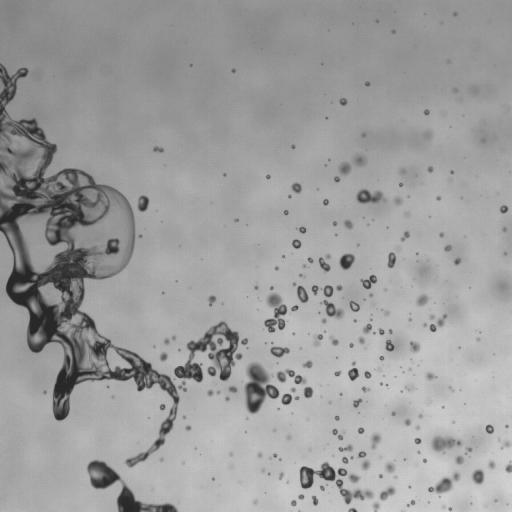droplet: (280, 387, 300, 406), (270, 341, 289, 357), (317, 253, 331, 273), (339, 253, 355, 270), (360, 274, 377, 289), (347, 361, 359, 381), (351, 153, 367, 167), (471, 468, 484, 485), (137, 195, 149, 212), (369, 432, 381, 449), (415, 293, 430, 306), (338, 161, 351, 175), (332, 428, 346, 440), (312, 333, 323, 347), (387, 252, 396, 268), (290, 182, 302, 193), (409, 341, 420, 353), (384, 461, 395, 473), (4, 101, 15, 112), (9, 110, 20, 121), (382, 189, 393, 200), (329, 257, 340, 268), (259, 287, 270, 298), (282, 295, 293, 306), (420, 303, 431, 314), (17, 306, 28, 317), (342, 308, 353, 319), (19, 311, 30, 322), (191, 330, 202, 341), (346, 349, 357, 360), (193, 350, 204, 361), (278, 355, 289, 366), (199, 358, 210, 369), (52, 359, 63, 370), (277, 359, 288, 370), (151, 360, 162, 371), (229, 364, 240, 375), (400, 373, 411, 384), (45, 376, 56, 387), (367, 376, 378, 387), (125, 377, 136, 388), (389, 379, 400, 390), (277, 382, 288, 393), (235, 389, 246, 400), (43, 392, 54, 403), (359, 433, 370, 444), (359, 439, 370, 450), (420, 439, 431, 450), (450, 445, 461, 456), (260, 456, 271, 467), (330, 458, 341, 469), (495, 458, 506, 469), (109, 460, 120, 471), (270, 461, 281, 472), (345, 462, 356, 473), (461, 470, 472, 481), (342, 479, 353, 490), (355, 479, 366, 490), (110, 481, 121, 492), (308, 484, 319, 495), (361, 497, 372, 508), (425, 371, 437, 381), (400, 230, 410, 241), (291, 238, 301, 249), (329, 334, 339, 345), (385, 339, 394, 351), (404, 383, 416, 392), (469, 85, 479, 95), (343, 219, 353, 229), (349, 301, 359, 311), (158, 351, 168, 361), (484, 424, 494, 434), (454, 455, 464, 465), (207, 295, 216, 306), (423, 130, 433, 139), (302, 360, 313, 368), (393, 196, 402, 205), (353, 398, 362, 407), (6, 66, 15, 75), (45, 134, 54, 143), (344, 154, 353, 163), (349, 163, 358, 172), (42, 169, 51, 178), (396, 187, 405, 196), (129, 199, 138, 208), (400, 200, 409, 209), (447, 250, 456, 259), (2, 268, 11, 277), (411, 289, 420, 298), (3, 296, 12, 305), (265, 309, 274, 318), (363, 331, 372, 340), (321, 336, 330, 345), (338, 337, 347, 346), (157, 343, 166, 352), (235, 343, 244, 352), (339, 371, 348, 380), (242, 374, 251, 383), (185, 376, 194, 385), (225, 376, 234, 385), (268, 376, 277, 385), (285, 376, 294, 385), (108, 377, 117, 386), (295, 383, 304, 392), (164, 397, 173, 406), (159, 410, 168, 419), (395, 413, 404, 422), (363, 428, 372, 437), (439, 430, 448, 439), (128, 448, 137, 457), (393, 460, 402, 469), (311, 462, 320, 471), (454, 463, 463, 472), (482, 468, 491, 477), (312, 474, 321, 483), (429, 477, 438, 486), (303, 487, 312, 496), (156, 496, 165, 505), (350, 497, 359, 506), (296, 225, 306, 233), (380, 308, 390, 316), (228, 385, 238, 393), (487, 459, 495, 469), (311, 494, 318, 505), (499, 205, 508, 213), (424, 397, 432, 406), (464, 446, 472, 455), (406, 499, 415, 507), (153, 146, 164, 152), (505, 429, 511, 440), (505, 447, 511, 458), (108, 505, 119, 511), (308, 505, 319, 511), (431, 505, 442, 511), (339, 97, 347, 105), (453, 257, 461, 265), (363, 370, 371, 378), (361, 386, 370, 393), (291, 304, 299, 311), (374, 365, 382, 372), (404, 418, 411, 426), (357, 426, 364, 434), (290, 499, 297, 507), (0, 175, 5, 186), (0, 281, 5, 292), (278, 471, 284, 480), (399, 168, 406, 175), (444, 244, 451, 251), (335, 284, 342, 291), (377, 328, 384, 335), (414, 437, 421, 444), (341, 456, 348, 463), (16, 77, 23, 84), (357, 148, 364, 155), (51, 152, 58, 159), (338, 173, 345, 180), (93, 177, 100, 184), (6, 188, 13, 195), (350, 191, 357, 198), (350, 195, 357, 202), (401, 197, 408, 204), (376, 199, 383, 206), (365, 200, 372, 207), (146, 202, 153, 209), (131, 204, 138, 211), (337, 220, 344, 227), (295, 232, 302, 239), (441, 238, 448, 245), (342, 247, 349, 254), (312, 260, 319, 267), (349, 262, 356, 269), (82, 276, 89, 283), (317, 281, 324, 288), (264, 288, 271, 295), (305, 288, 312, 295), (316, 289, 323, 296), (424, 289, 431, 296), (3, 294, 10, 301), (326, 296, 333, 303), (293, 297, 300, 304), (424, 300, 431, 307), (333, 302, 340, 309), (77, 304, 84, 311), (88, 311, 95, 318), (435, 311, 442, 318), (327, 315, 334, 322), (93, 319, 100, 326), (229, 324, 236, 331), (382, 332, 389, 339), (307, 335, 314, 342), (411, 335, 418, 342), (351, 337, 358, 344), (353, 341, 360, 348), (44, 342, 51, 349), (418, 345, 425, 352), (154, 349, 161, 356), (382, 349, 389, 356), (411, 351, 418, 358), (178, 359, 185, 366), (53, 366, 60, 373), (200, 367, 207, 374), (357, 368, 364, 375), (168, 372, 175, 379), (152, 382, 159, 389), (72, 383, 79, 390), (175, 388, 182, 395), (228, 391, 235, 398), (263, 394, 270, 401), (175, 410, 182, 417), (247, 411, 254, 418), (410, 417, 417, 424), (183, 418, 190, 425), (332, 421, 339, 428), (154, 422, 161, 429), (375, 427, 382, 434), (152, 432, 159, 439), (452, 432, 459, 439), (163, 433, 170, 440), (379, 434, 386, 441), (339, 440, 346, 447), (461, 440, 468, 447), (375, 441, 382, 448), (140, 445, 147, 452), (364, 447, 371, 454), (351, 448, 358, 455), (343, 450, 350, 457), (434, 450, 441, 457), (96, 454, 103, 461), (385, 455, 392, 462), (501, 459, 508, 466), (136, 460, 143, 467), (472, 463, 479, 470), (393, 467, 400, 474), (382, 470, 389, 477), (445, 471, 452, 478), (341, 475, 348, 482), (84, 479, 91, 486), (328, 479, 335, 486), (450, 479, 457, 486), (468, 479, 475, 486), (87, 484, 94, 491), (380, 484, 387, 491), (96, 487, 103, 494), (430, 490, 437, 497), (440, 490, 447, 497), (133, 494, 140, 501), (372, 494, 379, 501), (386, 494, 393, 501), (337, 495, 344, 502), (168, 498, 175, 505), (378, 499, 385, 506), (393, 245, 401, 251), (298, 273, 306, 279), (288, 506, 297, 511), (406, 506, 415, 511), (323, 198, 329, 205), (334, 370, 341, 376), (159, 403, 165, 410), (427, 166, 433, 172), (334, 176, 340, 182), (501, 226, 507, 232), (307, 257, 313, 263), (185, 425, 191, 431), (285, 434, 291, 440), (252, 499, 258, 505), (229, 463, 234, 470), (298, 494, 305, 499), (452, 88, 458, 93), (424, 109, 429, 115), (404, 212, 410, 217), (321, 318, 326, 324), (475, 337, 481, 342), (379, 355, 384, 361), (224, 396, 230, 401), (417, 413, 423, 418), (334, 415, 340, 420), (415, 424, 420, 430), (257, 451, 262, 457), (422, 457, 427, 463), (260, 467, 265, 473), (441, 504, 447, 509), (211, 381, 218, 385), (507, 206, 511, 213), (507, 225, 511, 232), (507, 249, 511, 256), (367, 507, 374, 511), (365, 81, 370, 86), (361, 132, 366, 137), (398, 182, 403, 187), (283, 210, 288, 215), (332, 221, 337, 226), (439, 232, 444, 237), (349, 342, 354, 347), (447, 506, 452, 511), (24, 63, 29, 68), (26, 71, 31, 76), (14, 89, 19, 94), (13, 93, 18, 98), (342, 93, 347, 98), (345, 101, 350, 106), (26, 115, 31, 120), (157, 143, 162, 148), (55, 145, 60, 150), (154, 150, 159, 155), (426, 161, 431, 166), (68, 163, 73, 168), (422, 166, 427, 171), (432, 167, 437, 172), (84, 168, 89, 173), (424, 170, 429, 175), (335, 171, 340, 176), (290, 178, 295, 183), (296, 178, 301, 183), (113, 184, 118, 189), (300, 184, 305, 189), (290, 190, 295, 195), (122, 191, 127, 196), (434, 191, 439, 196), (144, 192, 149, 197), (381, 192, 386, 197), (497, 201, 502, 206), (495, 208, 500, 213), (349, 217, 354, 222), (497, 224, 502, 229), (332, 225, 337, 230), (438, 227, 443, 232), (134, 230, 139, 235), (408, 230, 413, 235), (398, 232, 403, 237), (134, 236, 139, 241), (404, 237, 409, 242), (397, 240, 402, 245), (3, 241, 8, 246), (290, 246, 295, 251), (6, 247, 11, 252), (132, 247, 137, 252), (327, 249, 332, 254), (129, 256, 134, 261), (383, 257, 388, 262), (323, 258, 328, 263), (394, 258, 399, 263), (449, 259, 454, 264), (304, 260, 309, 265), (297, 261, 302, 266), (457, 262, 462, 267), (125, 263, 130, 268), (318, 267, 323, 272), (299, 268, 304, 273), (118, 270, 123, 275), (325, 270, 330, 275), (111, 274, 116, 279), (103, 277, 108, 282), (257, 283, 262, 288), (331, 284, 336, 289), (341, 284, 346, 289), (292, 285, 297, 290), (367, 287, 372, 292), (271, 288, 276, 293), (332, 288, 337, 293), (83, 289, 88, 294), (253, 289, 258, 294), (209, 290, 214, 295), (82, 294, 87, 299), (366, 296, 371, 301), (304, 300, 309, 305), (211, 301, 216, 306), (321, 304, 326, 309), (286, 306, 291, 311), (293, 309, 298, 314), (378, 310, 383, 315), (352, 311, 357, 316), (404, 313, 409, 318), (324, 314, 329, 319), (443, 317, 448, 322), (212, 320, 217, 325), (426, 320, 431, 325), (361, 321, 366, 326), (272, 323, 277, 328), (321, 323, 326, 328), (263, 325, 268, 330), (424, 325, 429, 330), (435, 325, 440, 330), (282, 326, 287, 331), (370, 326, 375, 331), (383, 328, 388, 333), (317, 329, 322, 334), (474, 332, 479, 337), (322, 333, 327, 338), (106, 334, 111, 339), (166, 334, 171, 339), (333, 334, 338, 339), (159, 337, 164, 342), (185, 337, 190, 342), (193, 337, 198, 342), (168, 338, 173, 343), (22, 339, 27, 344), (110, 339, 115, 344), (246, 340, 251, 345), (273, 341, 278, 346), (120, 343, 125, 348), (267, 343, 272, 348), (280, 343, 285, 348), (332, 344, 337, 349), (406, 344, 411, 349), (24, 345, 29, 350), (130, 347, 135, 352), (185, 349, 190, 354), (31, 351, 36, 356), (138, 352, 143, 357), (282, 352, 287, 357), (272, 355, 277, 360), (144, 357, 149, 362), (302, 357, 307, 362), (190, 358, 195, 363), (406, 361, 411, 366), (353, 363, 358, 368), (410, 363, 415, 368), (150, 364, 155, 369), (310, 364, 315, 369), (347, 364, 352, 369), (288, 365, 293, 370), (402, 365, 407, 370), (280, 367, 285, 372), (157, 369, 162, 374), (407, 370, 412, 375), (432, 370, 437, 375), (344, 374, 349, 379), (129, 376, 134, 381), (354, 376, 359, 381), (431, 377, 436, 382), (102, 378, 107, 383), (304, 382, 309, 387), (142, 386, 147, 391), (211, 386, 216, 391), (445, 388, 450, 393), (202, 390, 207, 395), (311, 391, 316, 396), (211, 392, 216, 397), (290, 392, 295, 397), (277, 393, 282, 398), (306, 396, 311, 401), (177, 400, 182, 405), (225, 400, 230, 405), (348, 400, 353, 405), (155, 401, 160, 406), (280, 403, 285, 408), (285, 403, 290, 408), (49, 412, 54, 417), (63, 416, 68, 421), (400, 417, 405, 422), (171, 419, 176, 424), (409, 422, 414, 427), (401, 423, 406, 428), (353, 425, 358, 430), (492, 429, 497, 434), (410, 440, 415, 445), (497, 441, 502, 446), (466, 442, 471, 447), (158, 444, 163, 449), (442, 446, 447, 451), (503, 446, 508, 451), (252, 451, 257, 456), (146, 454, 151, 459), (462, 454, 467, 459), (89, 456, 94, 461), (359, 456, 364, 461), (450, 457, 455, 462), (305, 462, 310, 467), (295, 465, 300, 470), (280, 467, 285, 472), (333, 467, 338, 472), (346, 469, 351, 474), (295, 472, 300, 477), (281, 475, 286, 480), (296, 482, 301, 487), (334, 486, 339, 491), (363, 496, 368, 501), (286, 498, 291, 503), (295, 498, 300, 503), (308, 498, 313, 503), (292, 505, 297, 510), (254, 284, 258, 290), (388, 328, 392, 334), (231, 68, 235, 73), (481, 138, 485, 143), (266, 174, 270, 179), (436, 196, 441, 200), (274, 266, 279, 270), (368, 293, 373, 297), (391, 411, 395, 416), (453, 12, 457, 16), (391, 29, 395, 33), (291, 144, 295, 148), (234, 218, 238, 222), (408, 317, 412, 321), (353, 318, 357, 322), (407, 367, 411, 371), (276, 406, 280, 410), (182, 415, 186, 419), (229, 452, 233, 456), (159, 457, 163, 461), (378, 474, 382, 478), (494, 498, 498, 502), (286, 479, 289, 484), (508, 423, 511, 428), (508, 471, 511, 476), (376, 508, 381, 511), (450, 170, 453, 174), (222, 173, 226, 176), (288, 194, 291, 198), (138, 234, 142, 237), (282, 254, 285, 258), (383, 288, 387, 291), (161, 291, 165, 294), (323, 330, 327, 333), (177, 348, 181, 351), (43, 390, 46, 394), (339, 392, 342, 396), (328, 401, 332, 404), (441, 405, 444, 409), (505, 424, 508, 428), (272, 428, 276, 431), (308, 447, 311, 451), (417, 450, 420, 454), (379, 455, 382, 459), (349, 456, 353, 459), (393, 475, 397, 478), (0, 230, 2, 235), (189, 64, 192, 67), (366, 223, 369, 226), (334, 233, 337, 236), (356, 243, 359, 246), (504, 252, 507, 255), (468, 286, 471, 289), (372, 331, 375, 334), (292, 332, 295, 335), (246, 346, 249, 349), (299, 346, 302, 349), (382, 374, 385, 377), (106, 385, 109, 388), (400, 390, 403, 393), (111, 395, 114, 398), (452, 420, 455, 423), (331, 454, 334, 457), (403, 458, 406, 461), (267, 472, 270, 475), (211, 477, 214, 480), (408, 485, 411, 488), (454, 15, 457, 18), (373, 21, 376, 24), (189, 60, 192, 63), (1, 62, 4, 65), (22, 64, 25, 67), (191, 64, 194, 67), (228, 67, 231, 70), (234, 67, 237, 70), (234, 70, 237, 73), (229, 71, 232, 74), (362, 80, 365, 83), (369, 81, 372, 84), (364, 85, 367, 88), (338, 103, 341, 106), (427, 107, 430, 110), (421, 108, 424, 111), (428, 111, 431, 114), (421, 112, 424, 115), (324, 113, 327, 116), (424, 114, 427, 117), (327, 115, 330, 118), (288, 143, 291, 146), (294, 144, 297, 147), (150, 146, 153, 149), (289, 147, 292, 150), (163, 148, 166, 151), (160, 151, 163, 154), (328, 155, 331, 158), (325, 160, 328, 163), (452, 168, 455, 171), (223, 169, 226, 172), (447, 170, 450, 173), (220, 171, 223, 174), (430, 171, 433, 174), (225, 172, 228, 175), (263, 172, 266, 175), (449, 173, 452, 176), (220, 174, 223, 177), (262, 175, 265, 178), (269, 176, 272, 179), (266, 178, 269, 181), (331, 178, 334, 181), (399, 179, 402, 182), (335, 181, 338, 184), (395, 183, 398, 186), (399, 186, 402, 189), (284, 194, 287, 197), (433, 196, 436, 199), (440, 196, 443, 199), (327, 197, 330, 200), (320, 198, 323, 201), (435, 199, 438, 202), (438, 199, 441, 202), (320, 202, 323, 205), (327, 202, 330, 205), (324, 204, 327, 207), (284, 206, 287, 209), (287, 209, 290, 212), (280, 210, 283, 213), (504, 211, 507, 214), (287, 212, 290, 215), (284, 214, 287, 217), (234, 215, 237, 218), (238, 218, 241, 221), (331, 218, 334, 221), (368, 220, 371, 223), (235, 221, 238, 224), (329, 222, 332, 225), (297, 224, 300, 227), (303, 224, 306, 227), (504, 224, 507, 227), (382, 225, 385, 228), (305, 228, 308, 231), (386, 228, 389, 231), (503, 231, 506, 234), (443, 232, 446, 235), (436, 234, 439, 237), (332, 235, 335, 238), (397, 237, 400, 240), (289, 239, 292, 242), (359, 242, 362, 245), (299, 245, 302, 248), (441, 247, 444, 250), (391, 249, 394, 252), (505, 249, 508, 252), (500, 250, 503, 253), (281, 251, 284, 254), (418, 251, 421, 254), (412, 252, 415, 255), (278, 254, 281, 257), (284, 254, 287, 257), (306, 254, 309, 257), (281, 257, 284, 260), (276, 263, 279, 266), (271, 266, 274, 269), (276, 269, 279, 272), (373, 272, 376, 275), (375, 275, 378, 278), (174, 276, 177, 279), (289, 282, 292, 285), (313, 282, 316, 285), (328, 282, 331, 285), (267, 284, 270, 287), (250, 285, 253, 288), (361, 286, 364, 289), (162, 288, 165, 291), (158, 291, 161, 294), (162, 293, 165, 296), (206, 300, 209, 303), (355, 300, 358, 303), (358, 303, 361, 306), (347, 306, 350, 309), (377, 307, 380, 310), (383, 307, 386, 310), (357, 309, 360, 312), (409, 314, 412, 317), (370, 315, 373, 318), (368, 320, 371, 323), (409, 320, 412, 323), (284, 321, 287, 324), (352, 321, 355, 324), (478, 327, 481, 330), (391, 328, 394, 331), (294, 330, 297, 333), (375, 330, 378, 333), (429, 330, 432, 333), (289, 333, 292, 336), (294, 333, 297, 336), (320, 338, 323, 341), (473, 339, 476, 342), (261, 340, 264, 343), (390, 340, 393, 343), (383, 342, 386, 345), (459, 343, 462, 346), (346, 344, 349, 347), (393, 346, 396, 349), (460, 346, 463, 349), (349, 347, 352, 350), (267, 348, 270, 351), (288, 350, 291, 353), (377, 353, 380, 356), (332, 355, 335, 358), (337, 355, 340, 358), (351, 358, 354, 361), (377, 358, 380, 361), (381, 359, 384, 362), (400, 367, 403, 370), (335, 368, 338, 371), (367, 369, 370, 372), (393, 372, 396, 375), (331, 373, 334, 376), (336, 375, 339, 378), (93, 379, 96, 382), (376, 382, 379, 385), (387, 384, 390, 387), (451, 385, 454, 388), (40, 388, 43, 391), (402, 388, 405, 391), (455, 388, 458, 391), (338, 389, 341, 392), (360, 389, 363, 392), (396, 389, 399, 392), (341, 391, 344, 394), (339, 395, 342, 398), (354, 397, 357, 400), (440, 402, 443, 405), (460, 402, 463, 405), (444, 405, 447, 408), (156, 406, 159, 409), (438, 406, 441, 409), (391, 408, 394, 411), (441, 408, 444, 411), (388, 411, 391, 414), (335, 412, 338, 415), (415, 412, 418, 415), (356, 413, 359, 416), (185, 415, 188, 418), (331, 415, 334, 418), (392, 415, 395, 418), (421, 416, 424, 419), (332, 418, 335, 421), (338, 418, 341, 421), (454, 420, 457, 423), (486, 421, 489, 424), (505, 421, 508, 424), (490, 422, 493, 425), (451, 423, 454, 426), (359, 424, 362, 427), (419, 425, 422, 428), (492, 425, 495, 428), (190, 426, 193, 429), (504, 427, 507, 430), (187, 429, 190, 432), (246, 429, 249, 432), (483, 429, 486, 432), (241, 430, 244, 433), (329, 430, 332, 433), (355, 431, 358, 434), (362, 431, 365, 434), (486, 432, 489, 435), (342, 435, 345, 438), (417, 435, 420, 438), (420, 439, 423, 442), (418, 442, 421, 445), (471, 448, 474, 451), (336, 449, 339, 452), (274, 450, 277, 453), (414, 451, 417, 454), (467, 451, 470, 454), (403, 454, 406, 457), (276, 455, 279, 458), (271, 456, 274, 459), (346, 456, 349, 459), (425, 456, 428, 459), (400, 458, 403, 461), (419, 458, 422, 461), (404, 459, 407, 462), (426, 459, 429, 462), (422, 462, 425, 465), (264, 471, 267, 474), (268, 474, 271, 477), (276, 474, 279, 477), (375, 474, 378, 477), (214, 476, 217, 479), (208, 477, 211, 480), (378, 477, 381, 480), (410, 484, 413, 487), (404, 485, 407, 488), (426, 490, 429, 493), (315, 495, 318, 498), (411, 496, 414, 499), (496, 496, 499, 499), (491, 497, 494, 500), (407, 500, 410, 503), (414, 500, 417, 503), (495, 501, 498, 504), (403, 503, 406, 506), (427, 503, 430, 506), (467, 503, 470, 506), (409, 504, 412, 507), (446, 504, 449, 507), (376, 19, 378, 23), (153, 344, 155, 348), (245, 417, 249, 419), (328, 158, 330, 161), (324, 164, 327, 166), (316, 188, 319, 190), (407, 195, 410, 197), (460, 196, 462, 199), (416, 252, 418, 255), (221, 302, 223, 305), (318, 311, 320, 314), (458, 346, 460, 349), (336, 356, 338, 359), (244, 430, 246, 433), (278, 458, 281, 460), (393, 459, 396, 461), (182, 461, 184, 464), (427, 501, 430, 503), (446, 509, 449, 511), (450, 509, 453, 511), (321, 63, 323, 65), (325, 117, 327, 119), (155, 209, 157, 211), (386, 226, 388, 228), (464, 235, 466, 237), (416, 260, 418, 262), (175, 280, 177, 282), (363, 298, 365, 300), (256, 308, 258, 310), (370, 313, 372, 315), (409, 312, 411, 314), (479, 331, 481, 333), (264, 342, 266, 344), (276, 362, 278, 364), (417, 364, 419, 366), (402, 371, 404, 373), (394, 376, 396, 378), (320, 395, 322, 397), (357, 411, 359, 413), (291, 412, 293, 414), (306, 418, 308, 420), (194, 447, 196, 449), (470, 502, 472, 504), (506, 503, 508, 505), (428, 216, 430, 217), (400, 366, 402, 367), (459, 389, 461, 390), (148, 417, 150, 418), (327, 443, 328, 445)
ligament: (299, 461, 374, 505), (311, 284, 345, 320), (264, 285, 288, 333), (427, 470, 460, 498), (430, 435, 463, 454), (371, 485, 395, 511), (356, 189, 386, 203), (292, 282, 308, 303), (356, 450, 370, 470), (362, 318, 372, 334), (358, 336, 368, 349), (338, 444, 353, 452), (206, 389, 220, 396), (504, 460, 511, 473), (379, 381, 388, 389), (269, 453, 277, 459), (448, 385, 454, 392), (348, 507, 357, 511), (302, 264, 309, 268), (257, 296, 261, 301), (410, 358, 414, 363), (400, 509, 405, 511), (297, 510, 301, 511)
